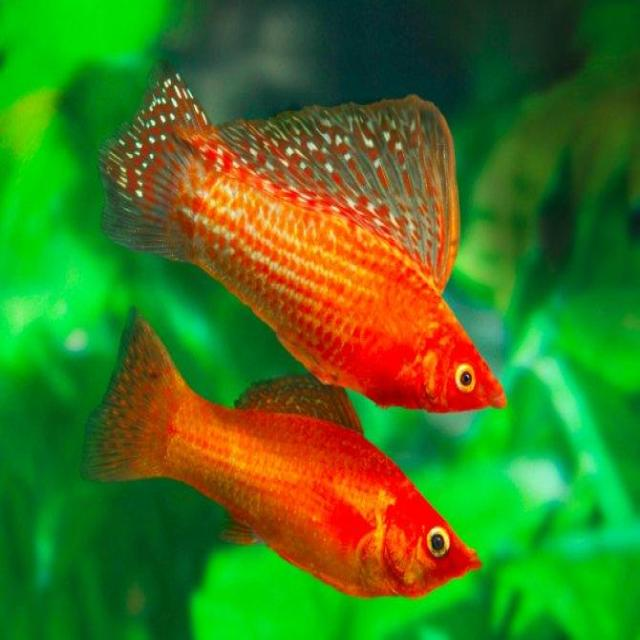PlatyFish: (84, 32, 514, 421), (76, 293, 505, 618)
